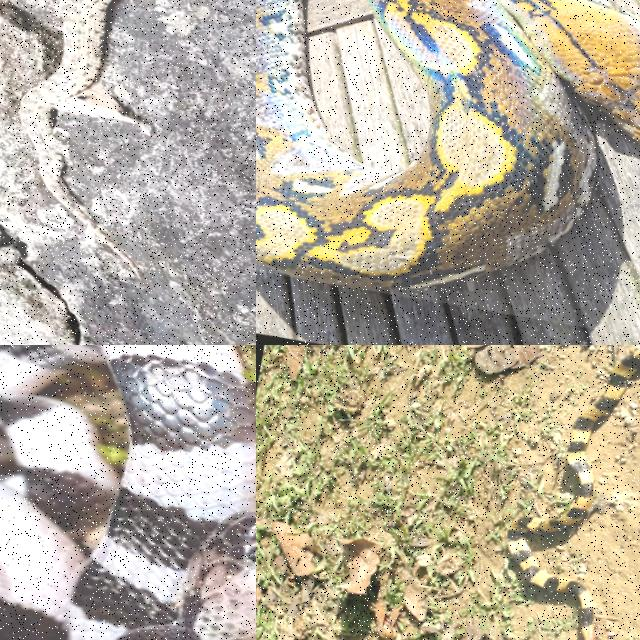Bungarus candidus: (0, 345, 255, 639)
Bungarus fasciatus: (507, 349, 639, 639)
Malayopython reticulatus: (256, 0, 639, 289)
Ovophis monticola: (18, 0, 143, 278)
